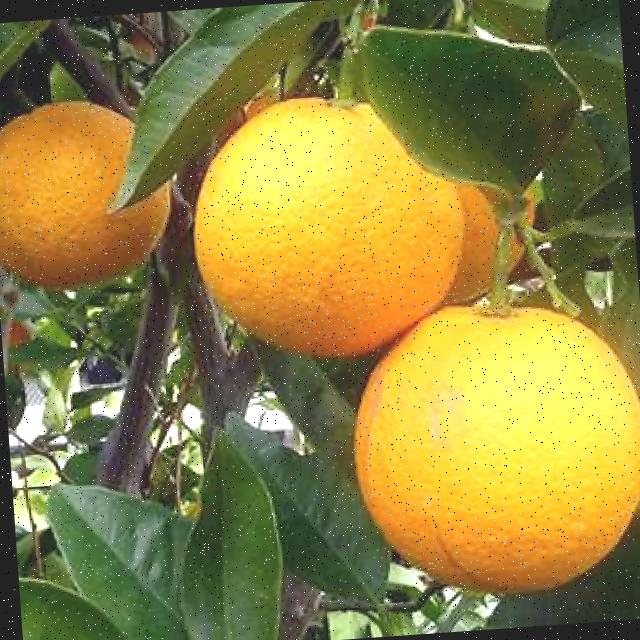orange: (341, 291, 640, 606), (184, 82, 471, 326), (0, 91, 178, 290)
